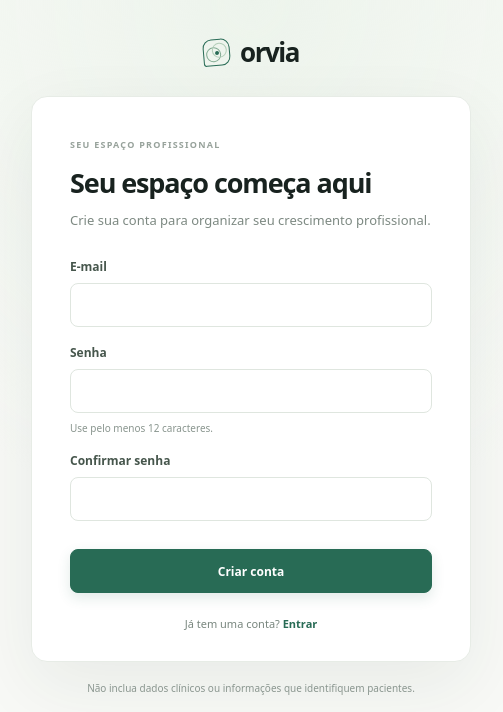
Test case: AuthPanel identity feedback › keeps the same privacy-safe response and offers explicit confirmation resend
In the field labelled "E-mail": (251, 305) [70,283,432,327], type "pro@example.com"
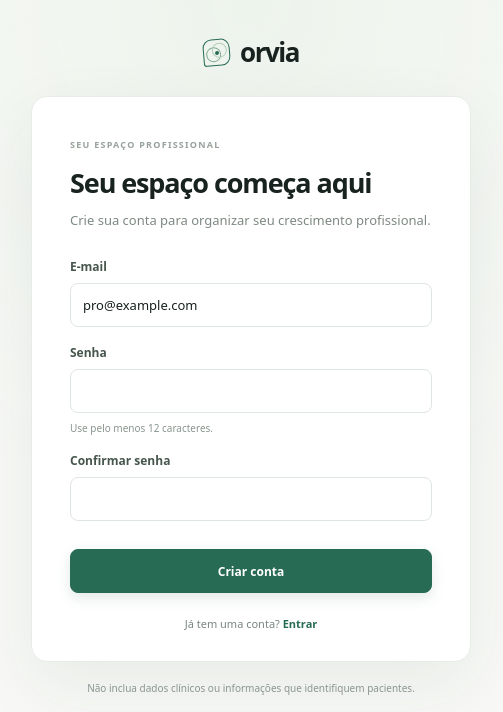
In the password field labelled "Senha Use pelo menos 12 caracteres.": (251, 391) [70,369,432,413], type "a sufficiently long password"
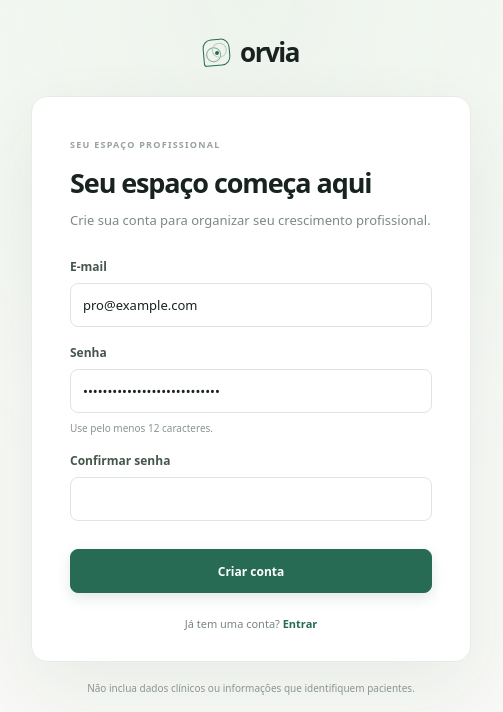
In the password field labelled "Confirmar senha": (251, 499) [70,477,432,521], type "a sufficiently long password"
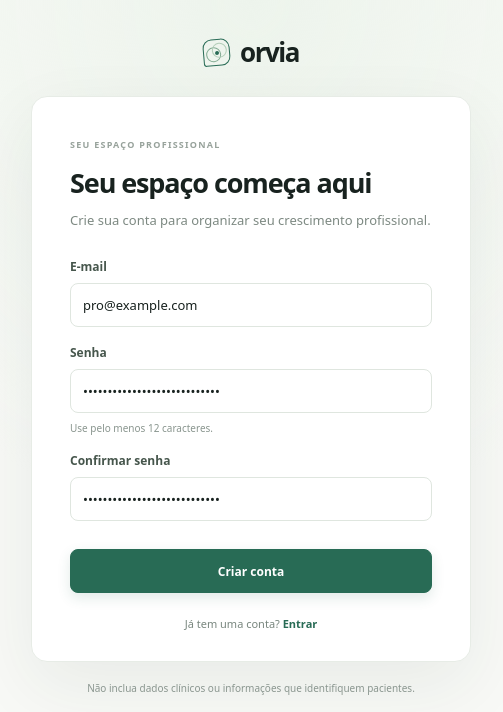
Click the button "Criar conta": (251, 571) [70,549,432,593]
(page scrolled)
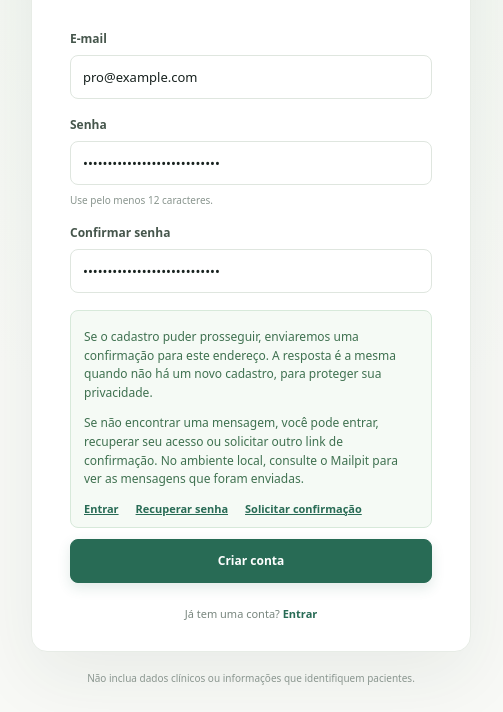
Expected: the link "Recuperar senha" is shown, [136,501,228,516]
Click the button "Solicitar confirmação": (303, 508) [245,501,362,516]
(page scrolled)
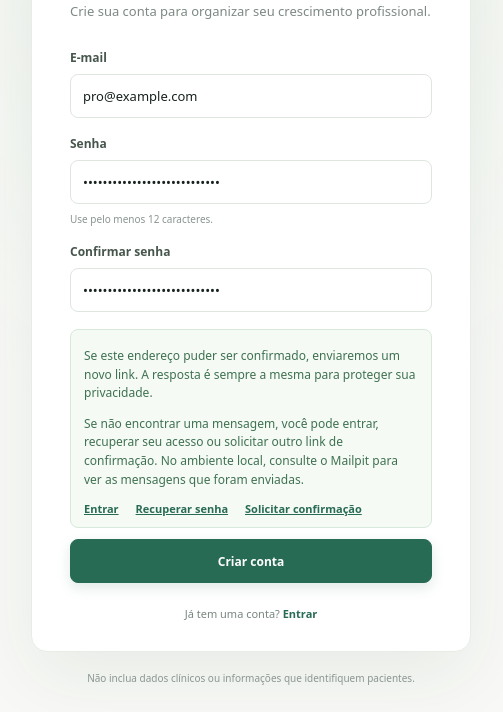
Expected: the link "Entrar" next to "Recuperar senha" is shown, [84,501,119,516]
Expected: the link "Recuperar senha" is shown, [136,501,228,516]
Expected: the message shows "A resposta é sempre a mesma para proteger sua privacidade", [84,347,415,401]
